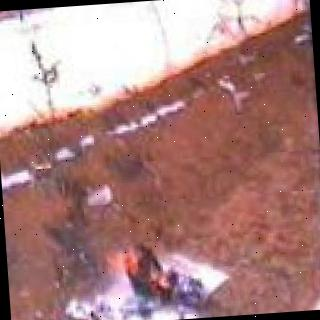fire: (104, 237, 200, 308)
